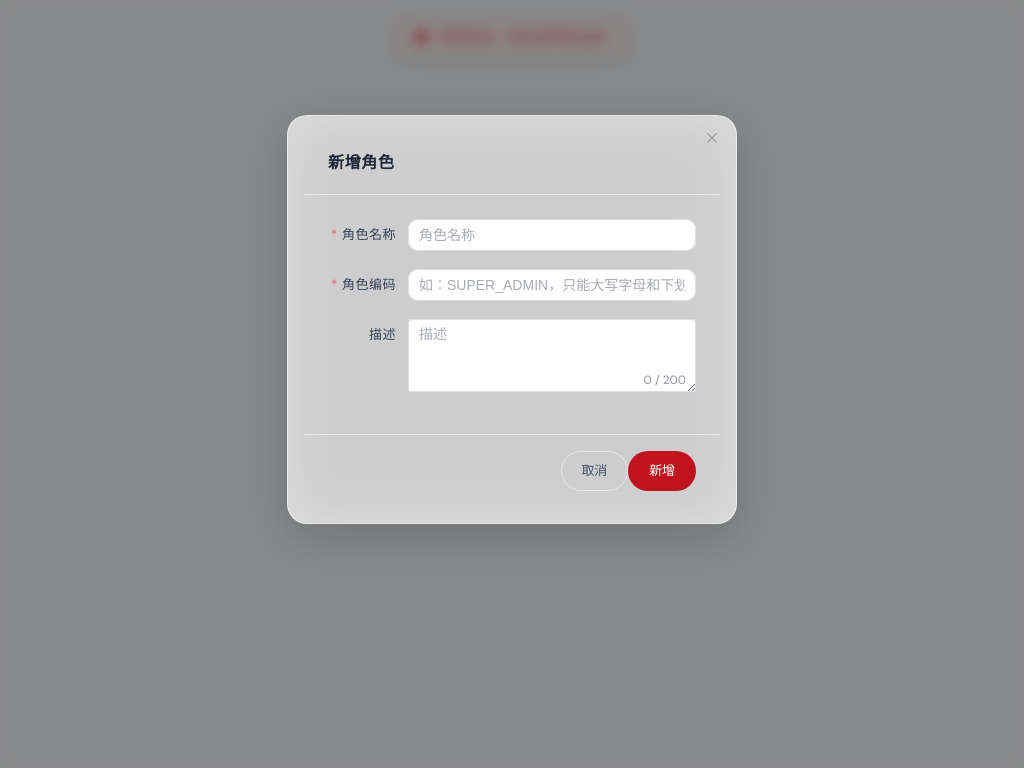
it: RoleFormDialog 角色编码即时归一 › 小写转大写、非法字符剔除（与后端 /^[A-Z_]+$/ 对齐）
Type "night-patrol!46" into the field with id "roleCode". click: coordinates (552, 285)
box: [419,270,685,300]
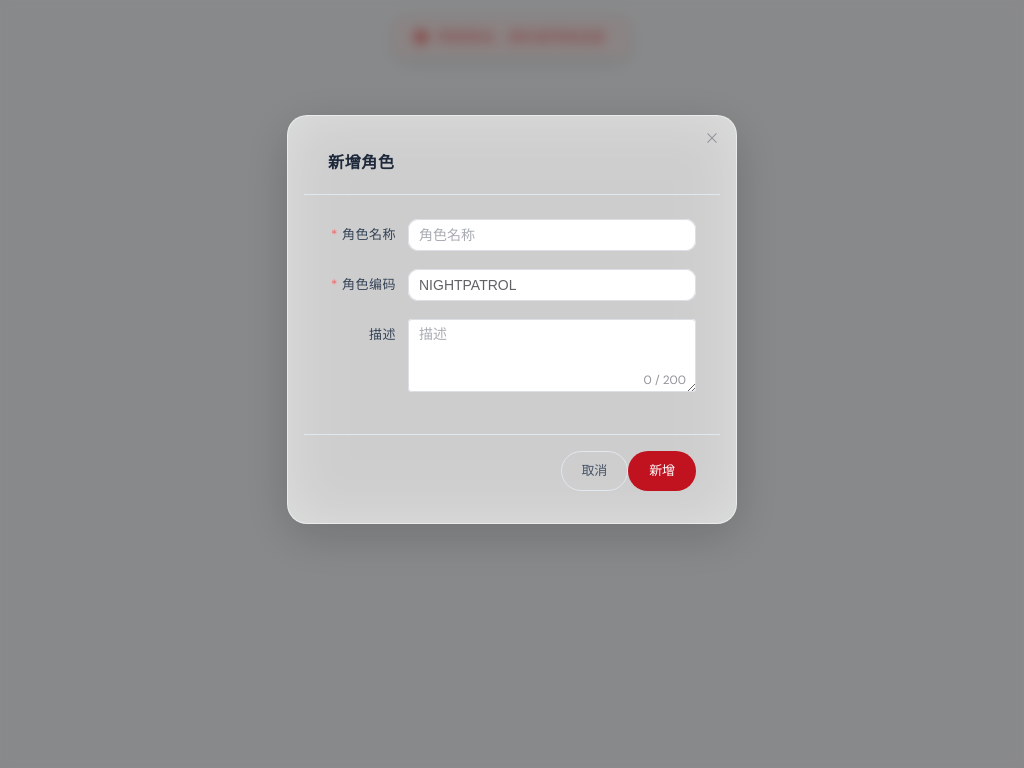
Expected: the field with id "roleCode" holds "NIGHTPATROL", [419,270,685,300]
